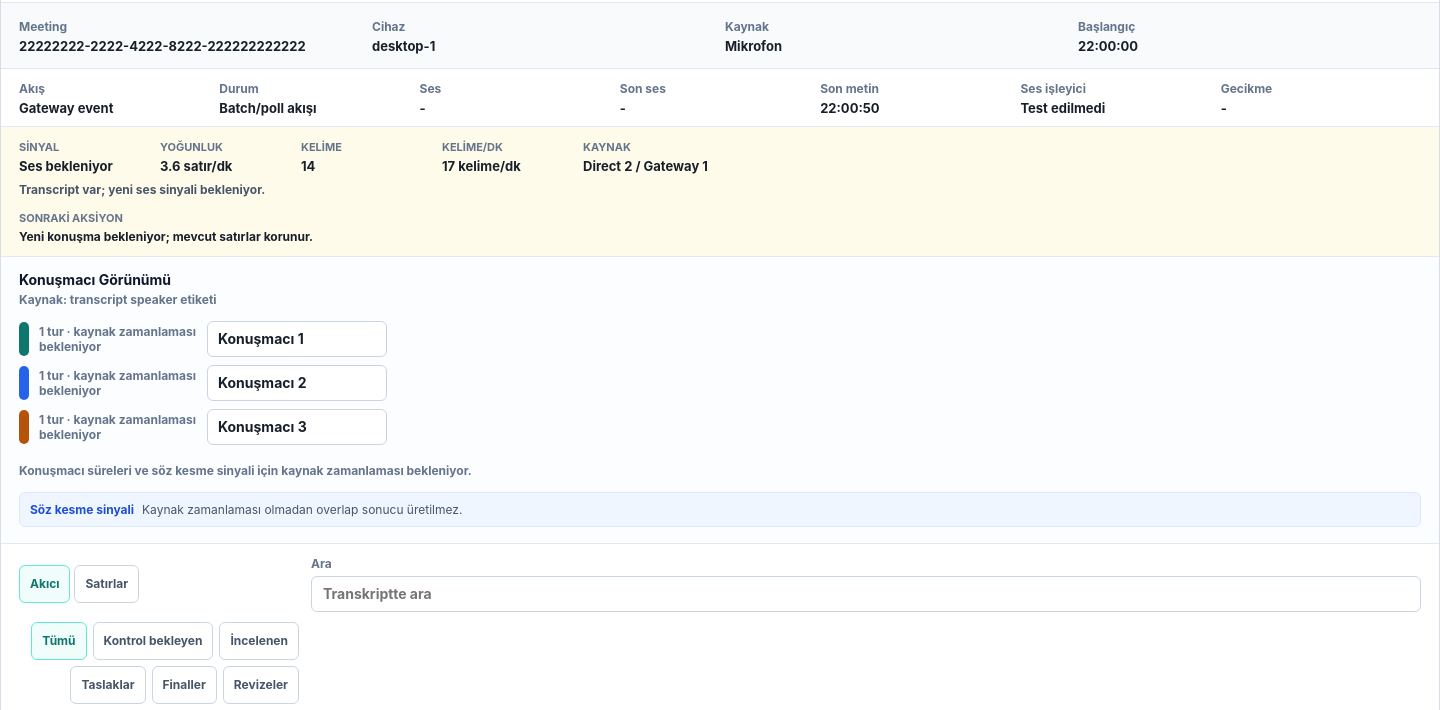
Test case: TranscriptPanel › searches long transcript rows without changing chronological order
The image size is (1440, 710).
Type "bütçe" into the search field with placeholder "Transkriptte ara" at (866, 594), box 311,576 -> 1421,612
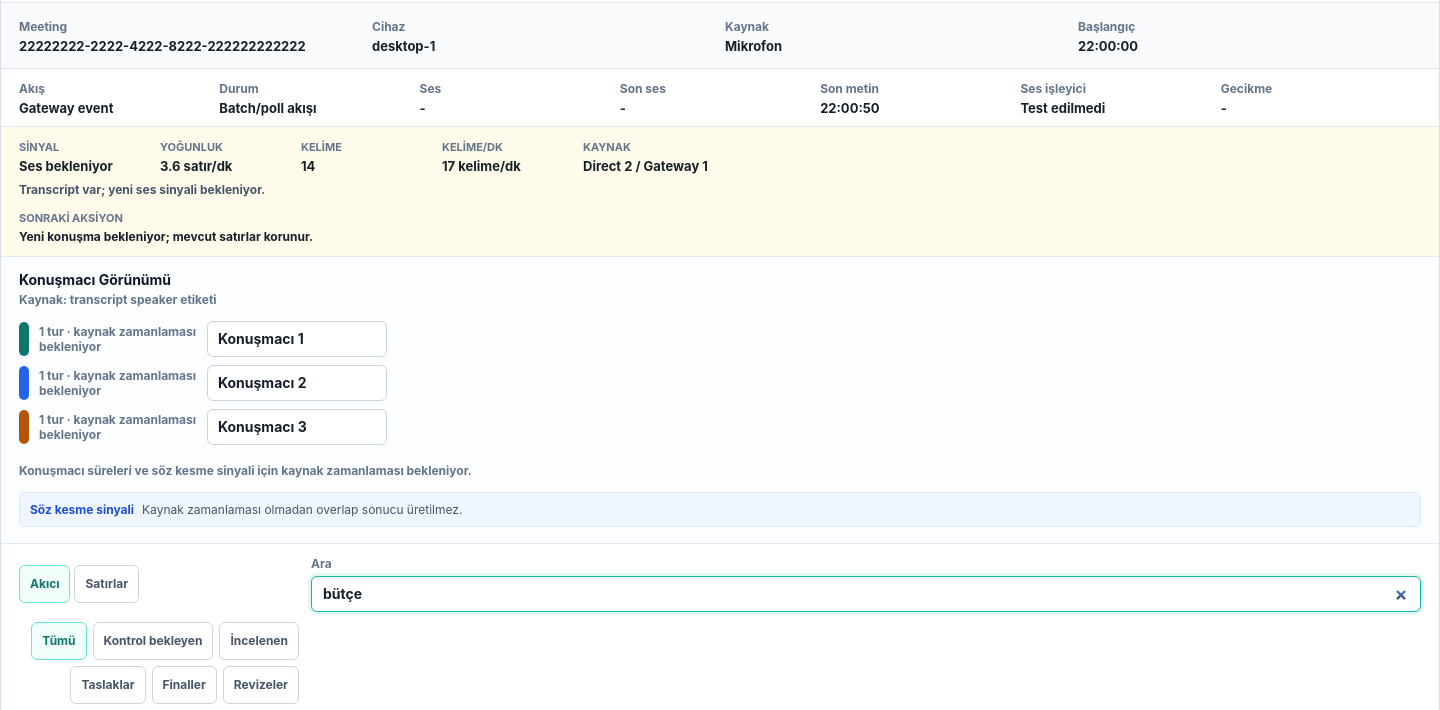
Replace the text in the search field with placeholder "Transkriptte ara" with "bulunmayan" at (866, 594), box 311,576 -> 1421,612
(page scrolled)
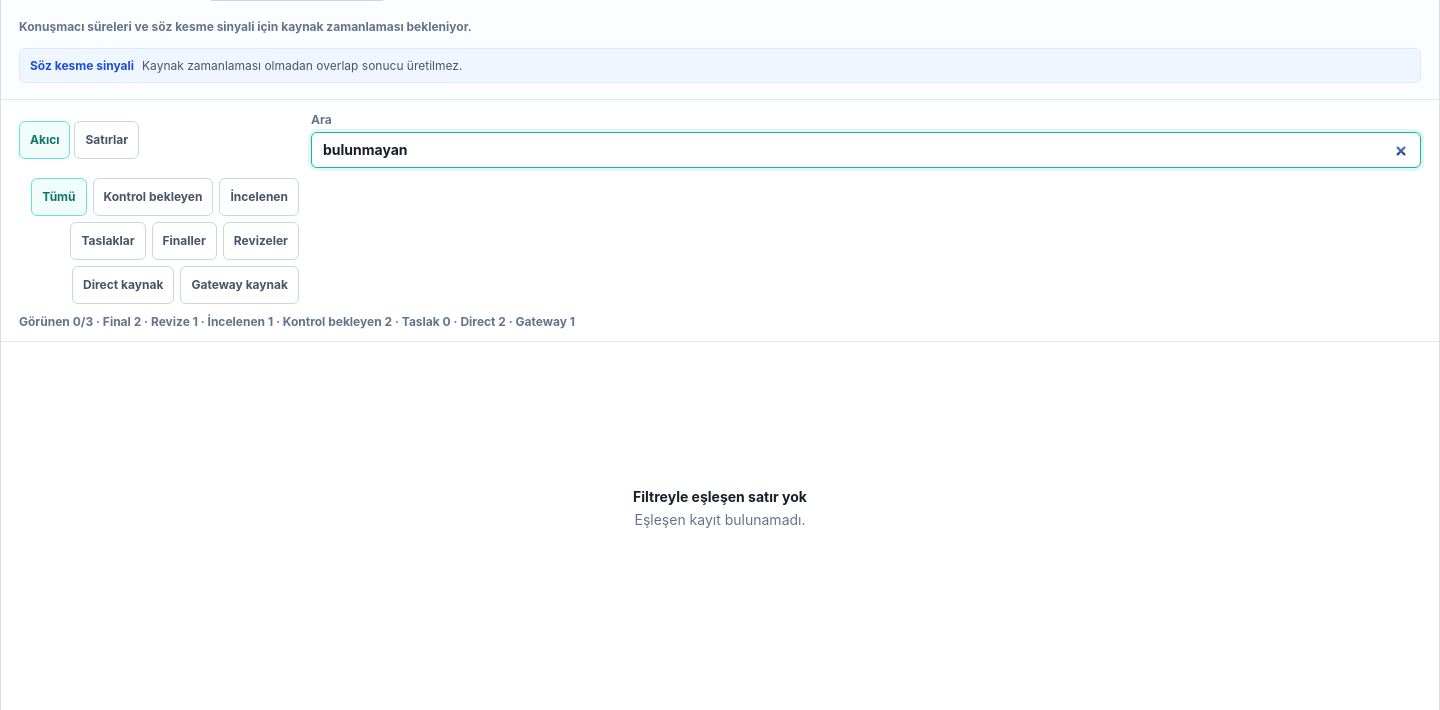
Now the text "Filtreyle eşleşen satır yok" is shown, box 633,488 -> 807,505
